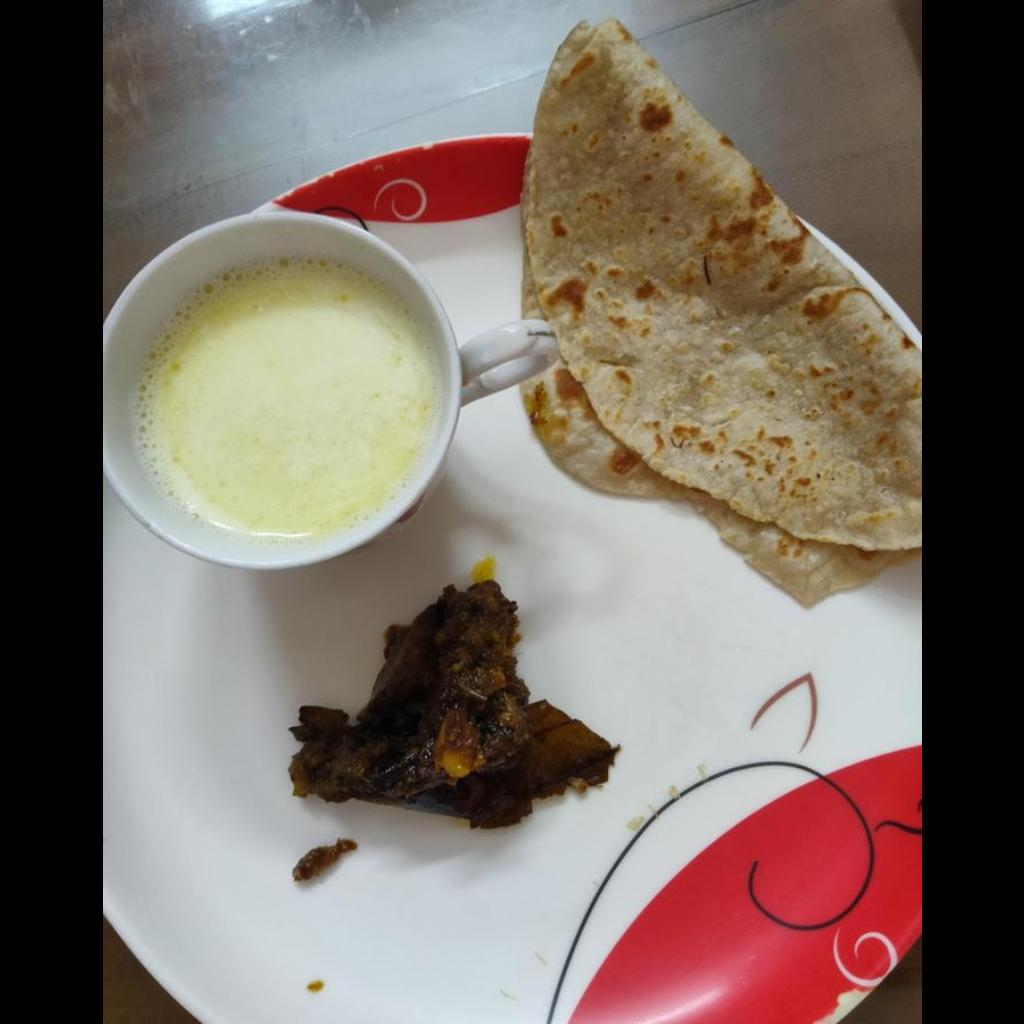achar: (292, 570, 620, 833)
milk: (133, 260, 430, 544)
ruti: (523, 21, 920, 604)
